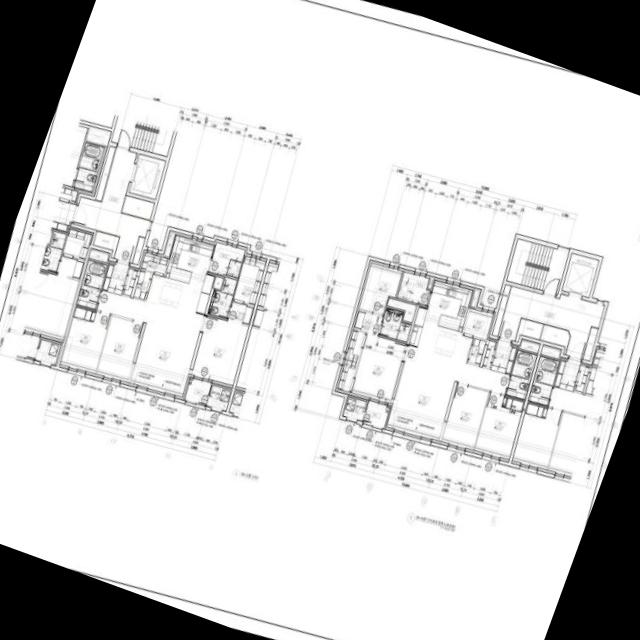background: (0, 0, 640, 640)
space_balconi: (363, 401, 389, 428), (184, 379, 211, 405)
space_bedroom: (191, 315, 249, 385), (351, 333, 405, 402), (60, 306, 110, 373), (96, 316, 143, 382), (475, 393, 524, 456), (442, 384, 488, 449)
space_dressroom: (337, 309, 382, 392), (233, 256, 266, 305), (228, 301, 253, 323)
space_elevator: (129, 154, 165, 199)
space_elevator_hall: (498, 253, 604, 359), (73, 148, 149, 263)
space_front: (482, 339, 517, 374), (102, 262, 137, 295)
space_kitchen: (409, 280, 473, 360), (165, 235, 214, 287)
space_living_room: (97, 273, 214, 396), (387, 345, 509, 440)
space_multipurpose_space: (209, 242, 245, 278), (397, 272, 430, 306)
space_other: (359, 263, 402, 314), (95, 146, 116, 201), (492, 284, 511, 336), (463, 308, 493, 339), (540, 324, 570, 354), (121, 195, 154, 220), (93, 231, 119, 258), (387, 298, 416, 322), (140, 253, 169, 276), (515, 318, 543, 341), (133, 270, 152, 301), (466, 338, 486, 366), (583, 327, 598, 361), (132, 236, 145, 264), (164, 233, 175, 256), (518, 341, 539, 353), (89, 250, 108, 262), (470, 290, 479, 307), (213, 276, 223, 289)
space_outdoor_room: (207, 385, 231, 410), (343, 397, 366, 420)
space_staircase: (506, 239, 568, 294)
space_toilet: (76, 259, 107, 309), (506, 350, 536, 400), (208, 277, 237, 318), (379, 308, 411, 341)
